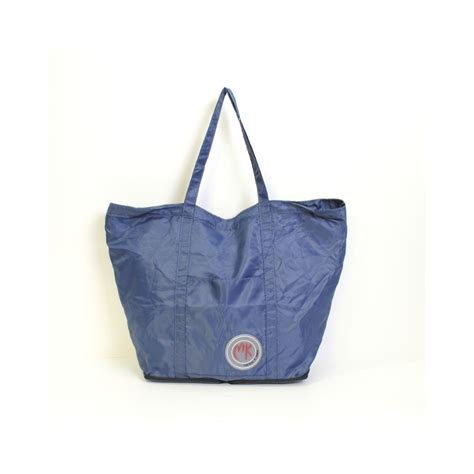nylon: (104, 200, 350, 383)
